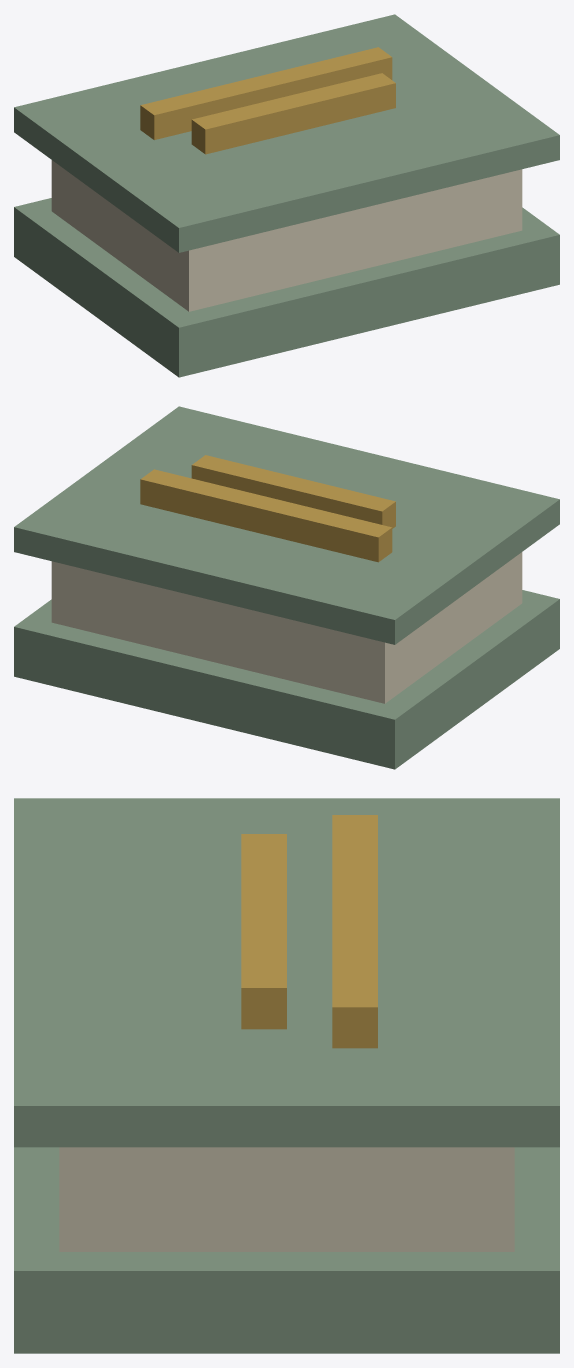
File: geospatial-17.glb
3 views of the same model, one above another, from view 1: azimuth 30°, elevation 25°; view 2: azimuth 150°, elevation 25°; view 3: azimuth 270°, elevation 25° (orthographic). The views are drawn at different scales.
Visible parts, largest first — view 1: Ocean chart; view 2: Ocean chart; view 3: Ocean chart.
Part boxes in pixels (<box>): Ocean chart: <box>14,14,559,377</box>; Ocean chart: <box>14,406,559,769</box>; Ocean chart: <box>14,798,559,1353</box>.
Size of the model in its own units: 1.28 by 0.56 by 0.96.
